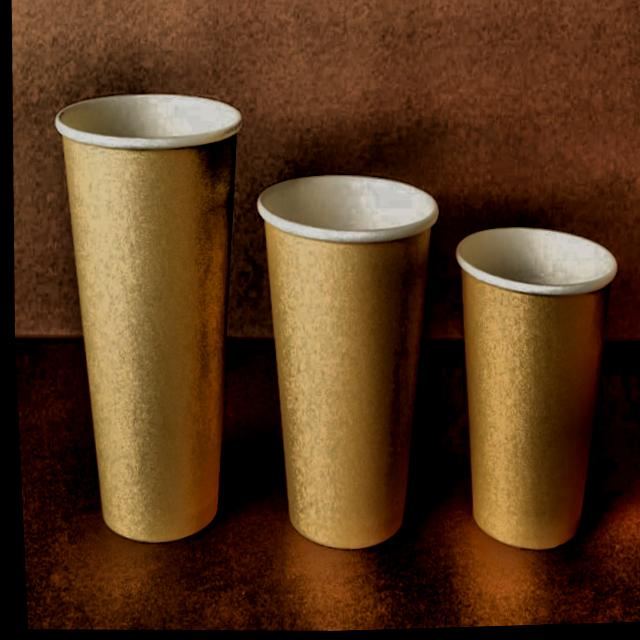Cup: (31, 76, 258, 559), (237, 141, 448, 559), (437, 219, 630, 566)
